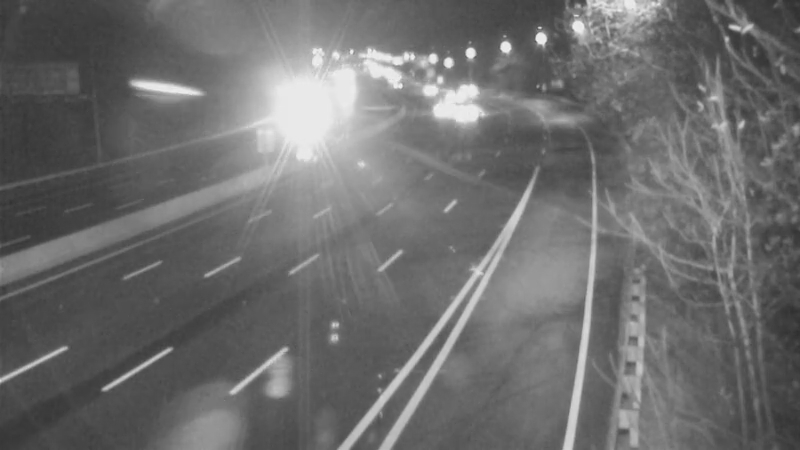vehicle: (370, 58, 420, 108), (402, 66, 452, 116), (438, 60, 488, 110), (427, 72, 477, 122), (420, 84, 470, 134), (448, 86, 498, 136), (276, 88, 326, 138)
